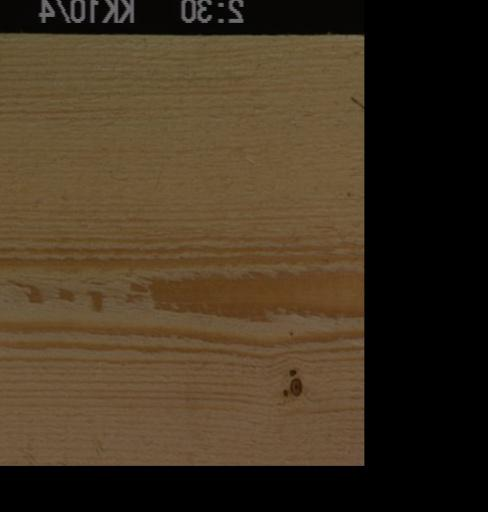dry_knot: (280, 362, 302, 400)
